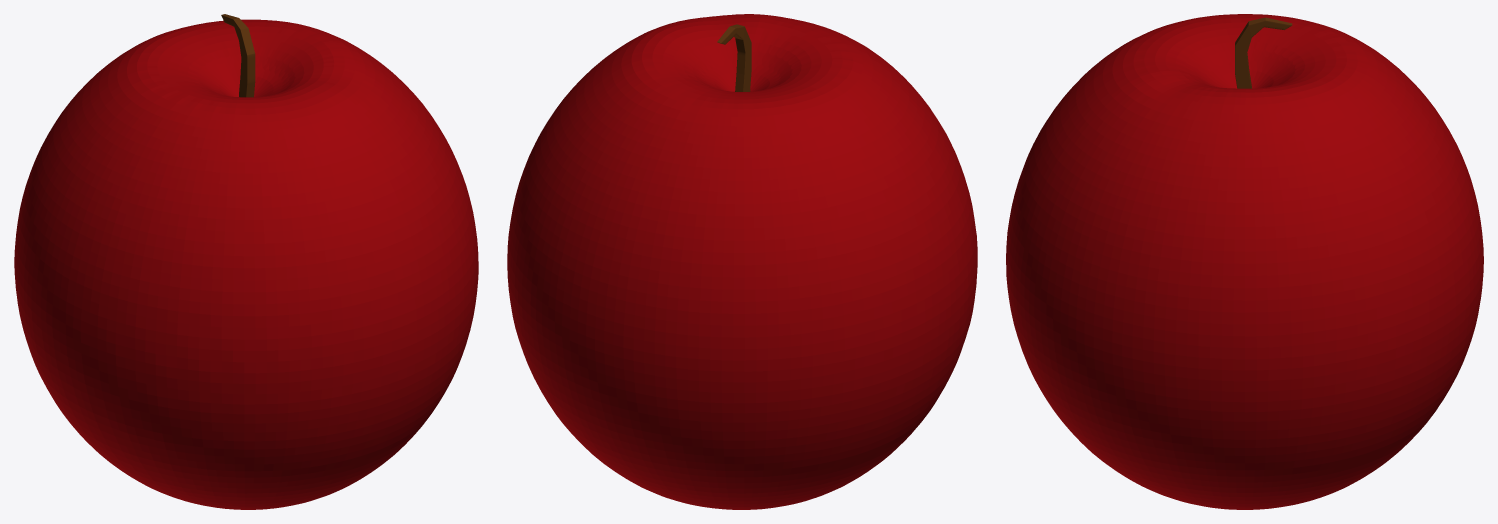
File: Apple.fbx
The picture shows the model from 3 angles, left to right: view 1: azimuth 30°, elevation 25°; view 2: azimuth 150°, elevation 25°; view 3: azimuth 270°, elevation 25°; orthographic projection.
Parts seen in each view (by area): view 1: Sphere, Cube; view 2: Sphere, Cube; view 3: Sphere, Cube.
Part boxes in pixels (x1,y1,x2,y2): Sphere: [14, 19, 478, 509]; Cube: [221, 14, 255, 97]; Sphere: [507, 14, 977, 509]; Cube: [717, 24, 751, 91]; Sphere: [1006, 14, 1483, 509]; Cube: [1235, 17, 1292, 88].
Bounding box in the file's own units: 184 × 197 × 187.
